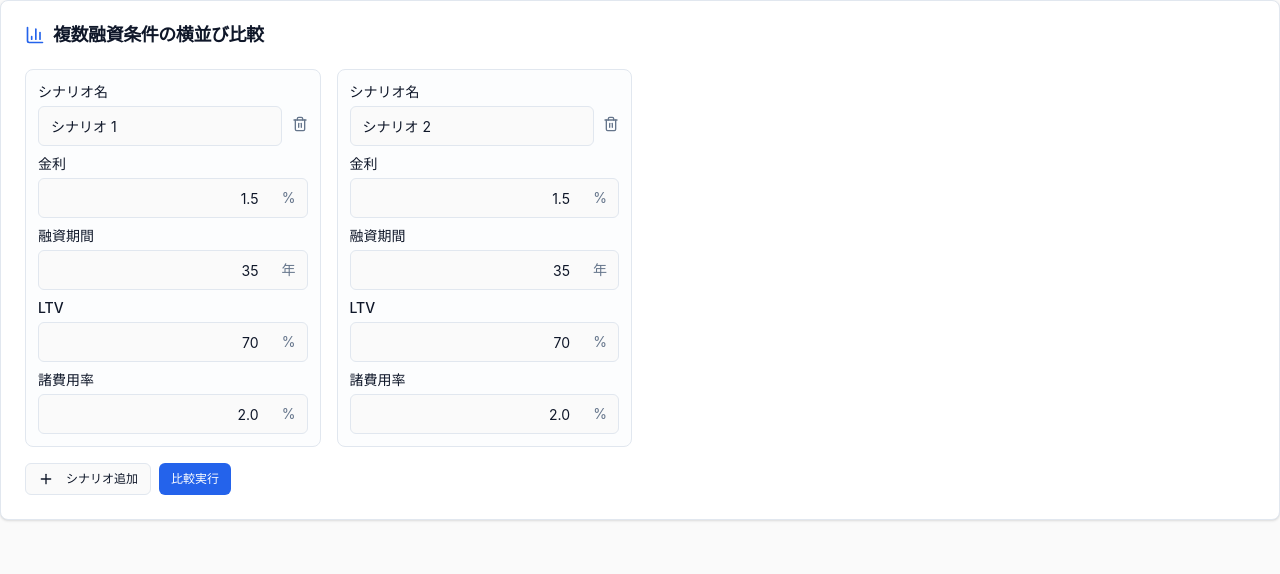
Scenario: LoanComparePanel › APIエラー時にエラーメッセージが表示される
Step 1. Click the button "比較実行" → (195, 479), box [159,463,231,495]
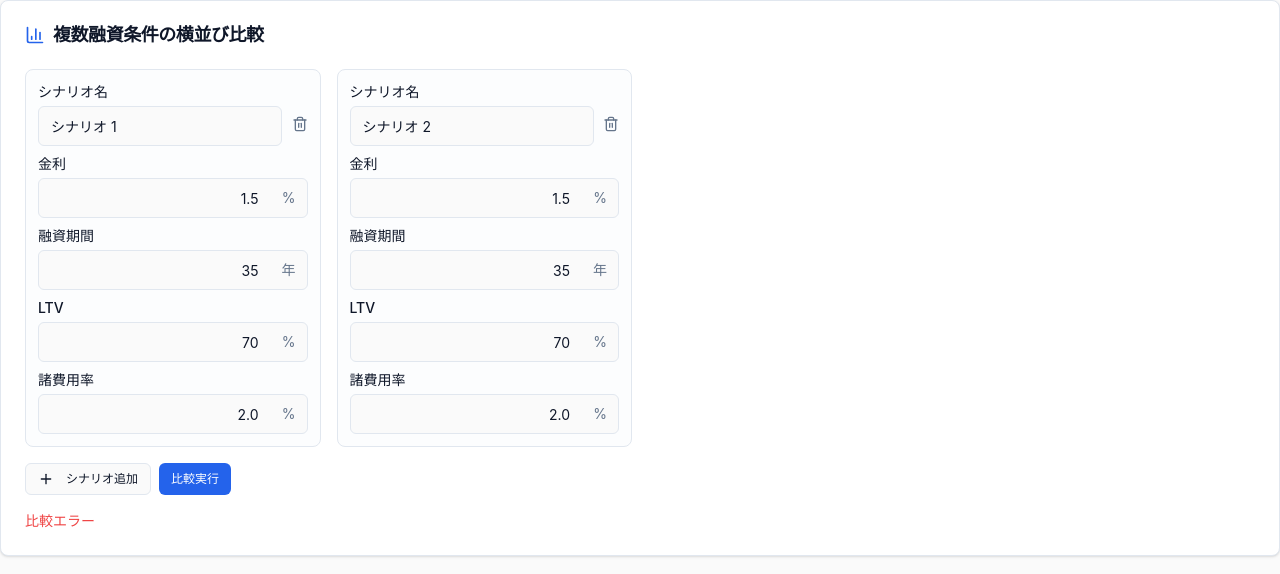
Result: the text "比較エラー" is shown at [25,512,95,529]
